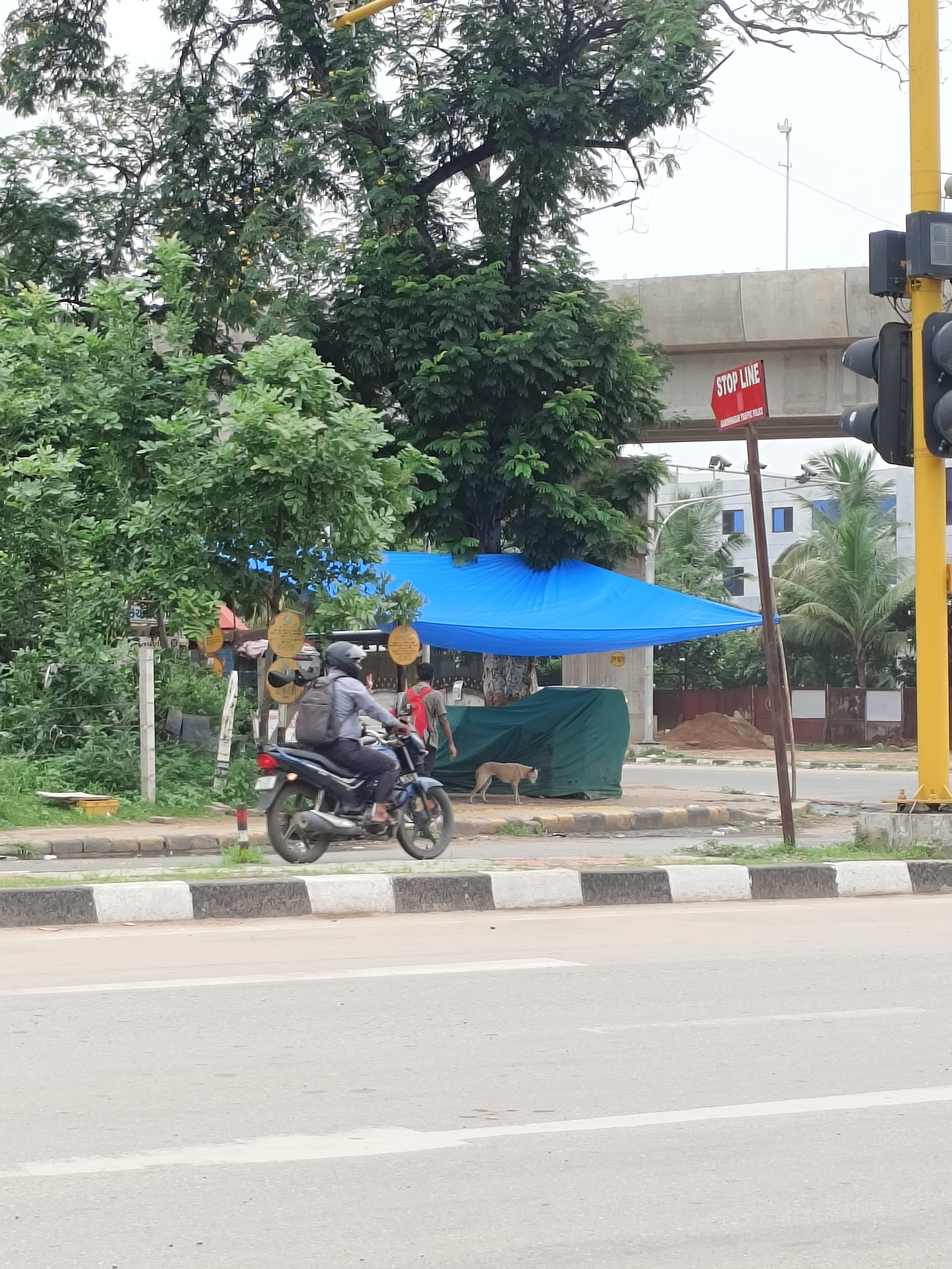BikeWithRider: (242, 630, 465, 868)
Helmet: (318, 636, 371, 683)
